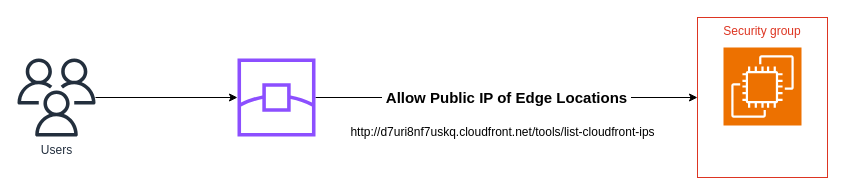
Some shapes in this 845 by 195 pixel diagram are drawn without their labels. Each missing label, with the centre of its shape:
EC2 Instances Must be Public: the point at 762,86
Edge Location: the point at 276,97
